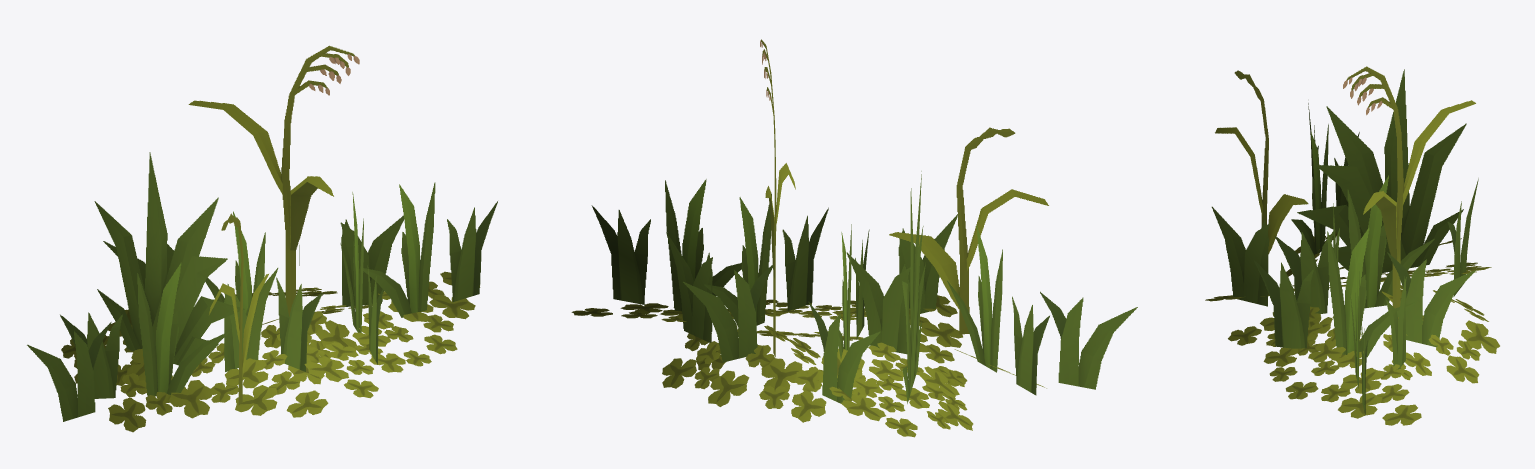
The model's file is SM_Env_Ground_Cover_01.fbx.
3 renders of one model, left to right at view 1: azimuth 30°, elevation 25°; view 2: azimuth 150°, elevation 25°; view 3: azimuth 270°, elevation 25°, orthographic. The views are drawn at different scales.
Visible parts, largest first — view 1: SM_Env_Ground_Cover_01_LOD0; view 2: SM_Env_Ground_Cover_01_LOD0; view 3: SM_Env_Ground_Cover_01_LOD0.
Part boxes in pixels (left/top/right/bottom): SM_Env_Ground_Cover_01_LOD0: left=27, top=45, right=497, bottom=432; SM_Env_Ground_Cover_01_LOD0: left=571, top=39, right=1137, bottom=437; SM_Env_Ground_Cover_01_LOD0: left=1205, top=66, right=1499, bottom=425.
Size of what is drawn, in the model's own units: 289 by 159 by 158.
